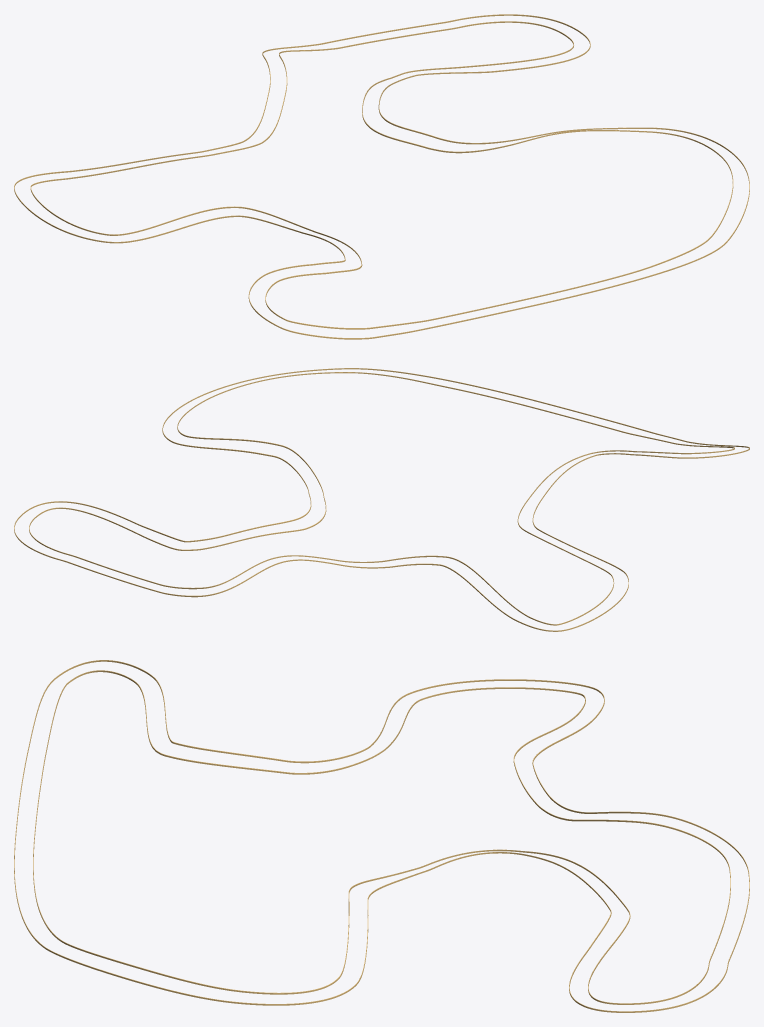
File: OpenRoadConcreteEdge.fbx
3 renders of one model, top to bottom at view 1: azimuth 30°, elevation 25°; view 2: azimuth 150°, elevation 25°; view 3: azimuth 270°, elevation 25°, orthographic. The views are drawn at different scales.
Visible parts, largest first — view 1: ConcreteEdge; view 2: ConcreteEdge; view 3: ConcreteEdge.
Boxes of the visible parts, x1,y1,x2,y2 form: ConcreteEdge: (14, 14, 749, 339); ConcreteEdge: (14, 368, 749, 631); ConcreteEdge: (14, 660, 749, 1012).
Bounding box in the file's own units: 113867 × 6923 × 106558.
